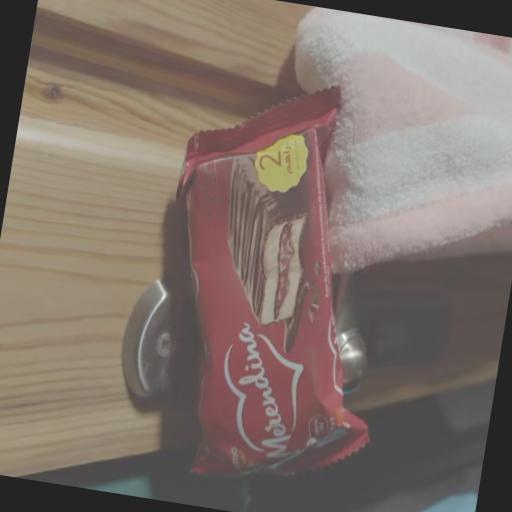merendina: (108, 53, 463, 512)
